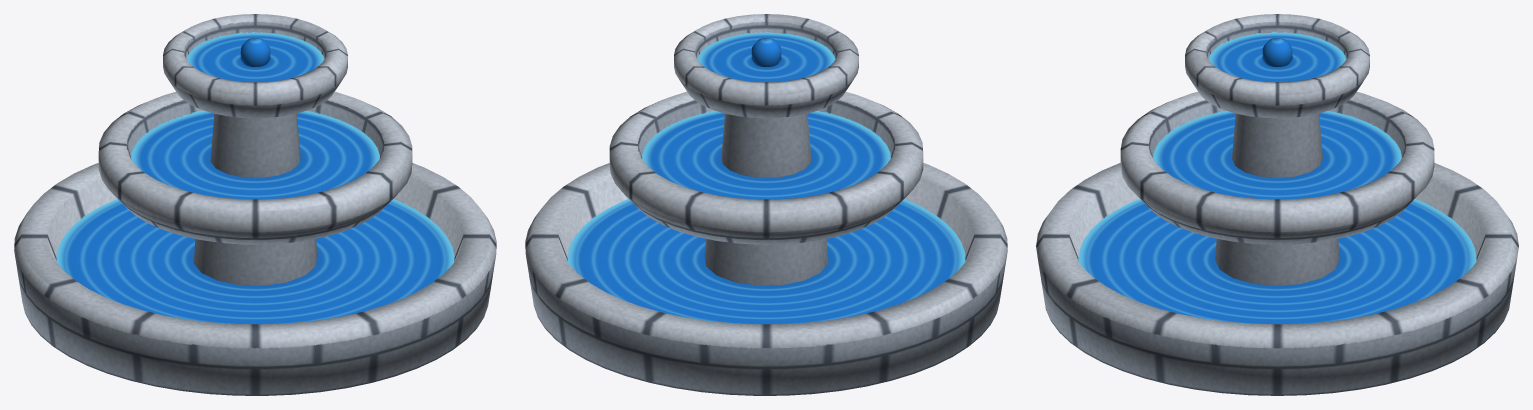
The model's file is fountain.fbx.
3 renders of one model, left to right at view 1: azimuth 30°, elevation 25°; view 2: azimuth 150°, elevation 25°; view 3: azimuth 270°, elevation 25°, orthographic.
Parts seen in each view (by area): view 1: fountain; view 2: fountain; view 3: fountain.
Part boxes in pixels (<box>): fountain: <box>14,14,496,395</box>; fountain: <box>525,14,1007,395</box>; fountain: <box>1036,14,1518,395</box>.
Size of the model in its own units: 2400 by 1415 by 2400.
Materials: 1 (1 with a texture image).
